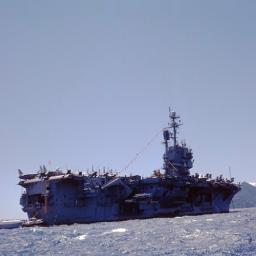Portanaves: (18, 105, 244, 227)
